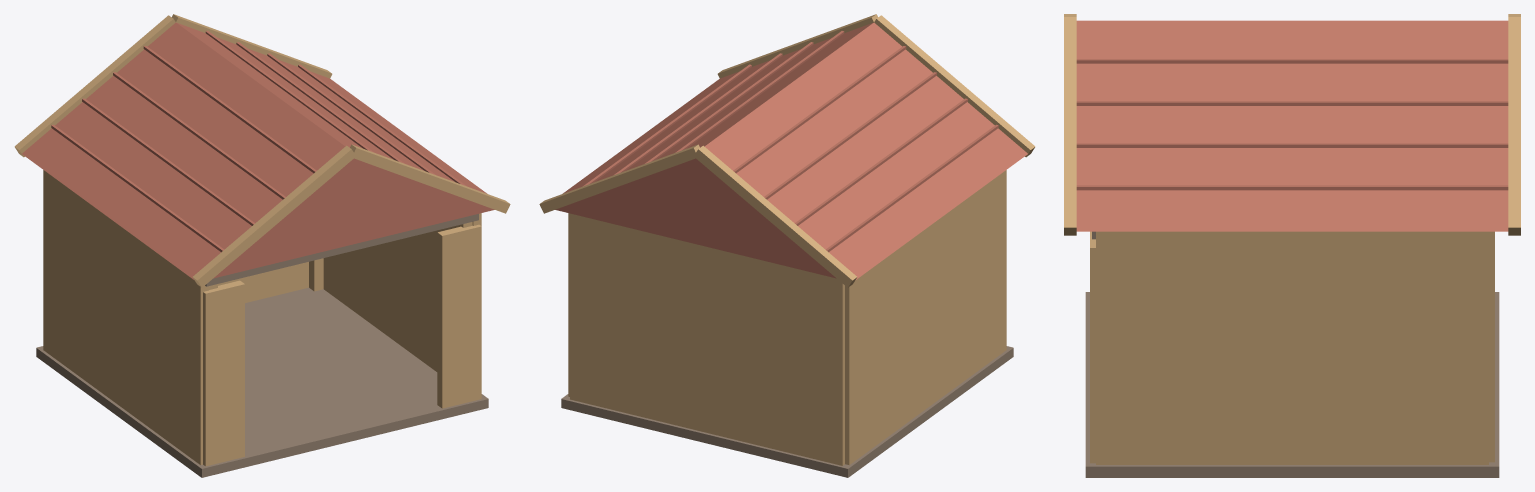
The model's file is harvest-hearth-open-harvest-barn__50.glb.
3 views of the same model, side by side, from view 1: azimuth 30°, elevation 25°; view 2: azimuth 150°, elevation 25°; view 3: azimuth 270°, elevation 25° (orthographic). The views are drawn at different scales.
Visible parts, largest first — view 1: harvest-hearth-open-barn; view 2: harvest-hearth-open-barn; view 3: harvest-hearth-open-barn.
Boxes of the visible parts, left/top/right/bottom form: harvest-hearth-open-barn: left=14, top=14, right=510, bottom=477; harvest-hearth-open-barn: left=539, top=14, right=1035, bottom=477; harvest-hearth-open-barn: left=1064, top=14, right=1520, bottom=477.
Bounding box in the file's own units: 4.37 × 4.01 × 4.42.
